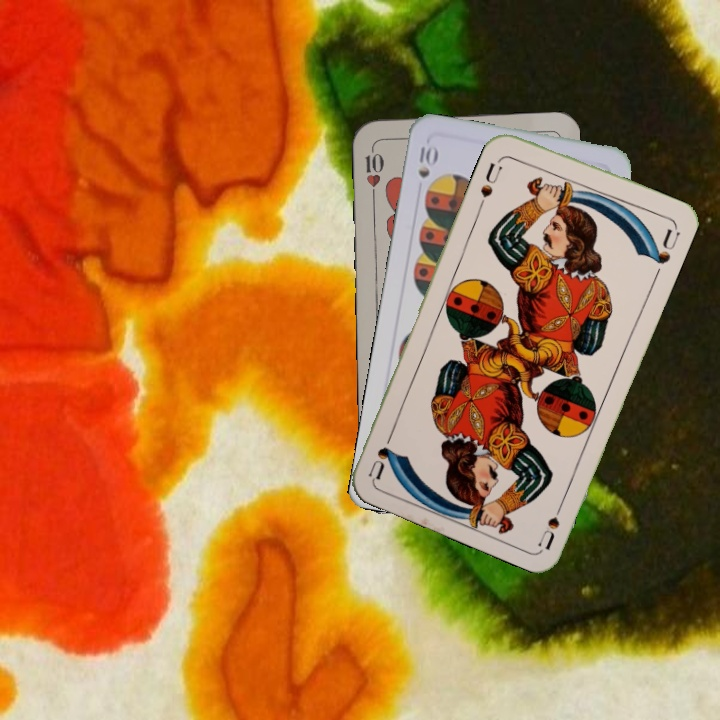H10: (361, 141, 386, 200)
S10: (413, 142, 440, 180)
SU: (536, 493, 568, 551), (475, 158, 505, 209)
